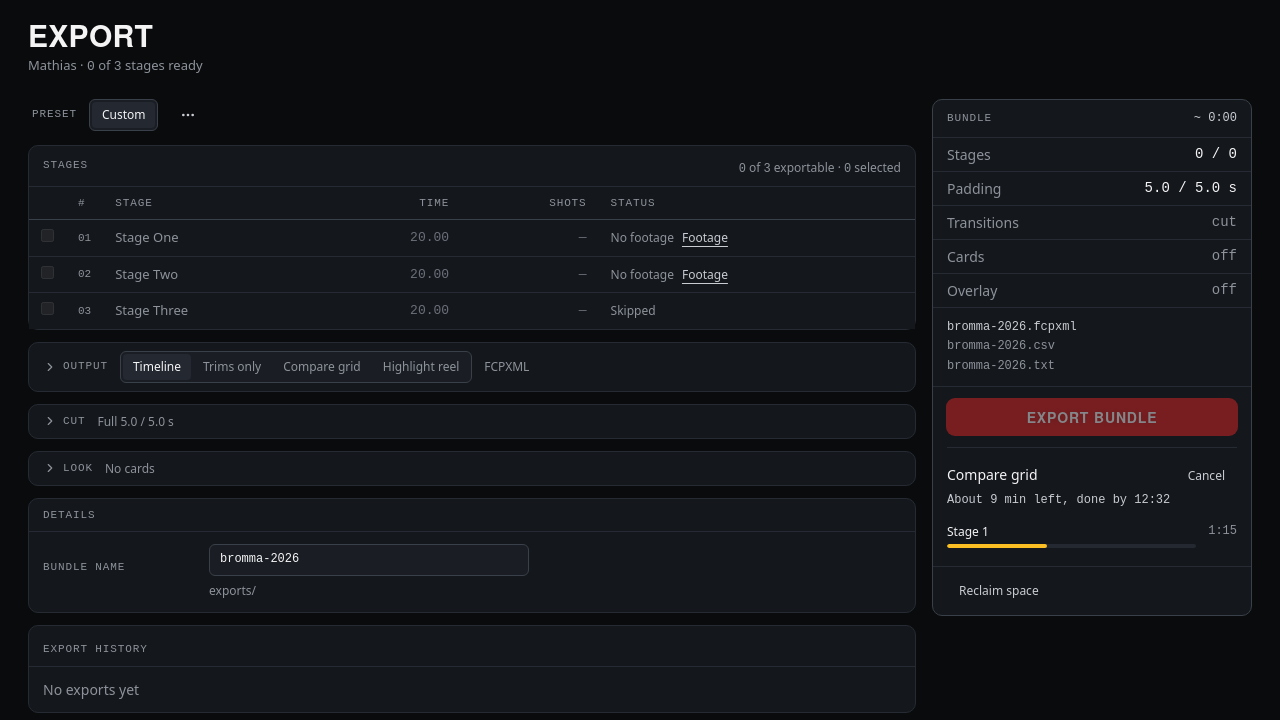
Test: Export progress and the export limit (spec 2026-10-25) › never blocks without a limit (desktop)
Click the button "Compare grid": (322, 367) x1=273 y1=354 x2=371 y2=380
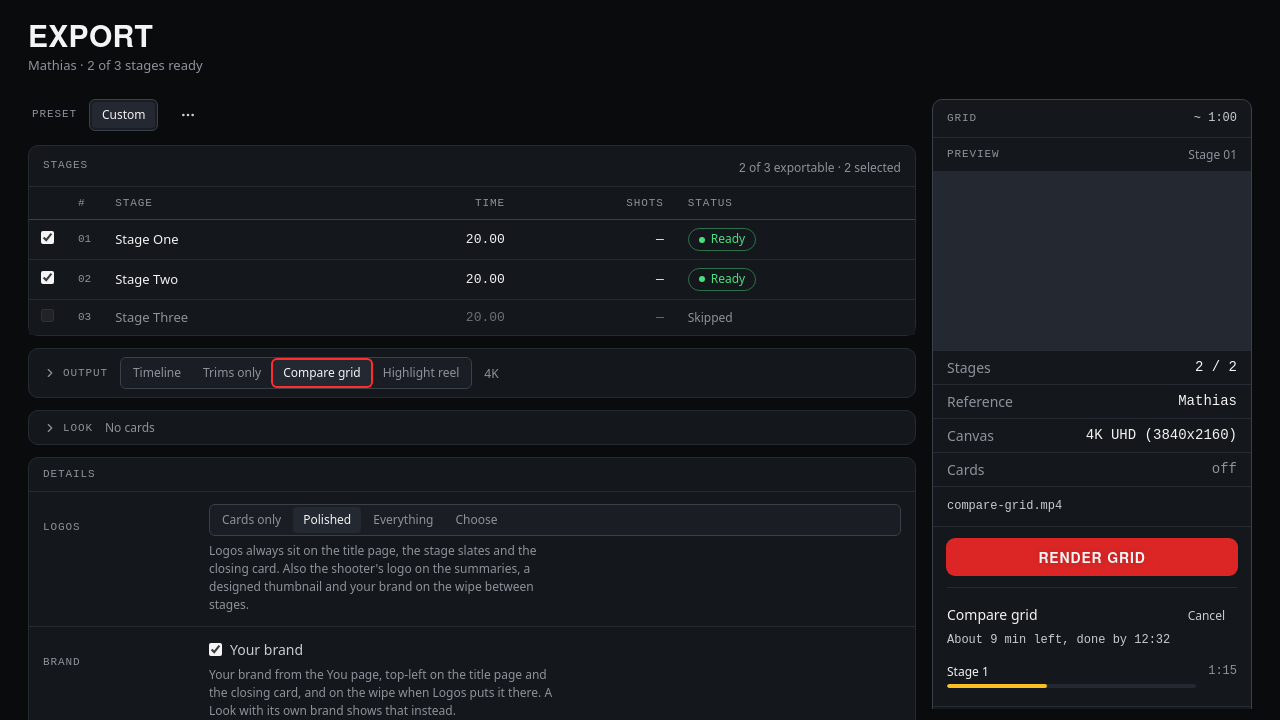
Expected: the element named "export progress" is shown, x1=947 y1=587 x2=1237 y2=694
Expected: the checkbox named "Stage Two" is checked, x1=41 y1=271 x2=54 y2=284
Expected: the button "Render grid" is enabled, x1=947 y1=539 x2=1237 y2=575
